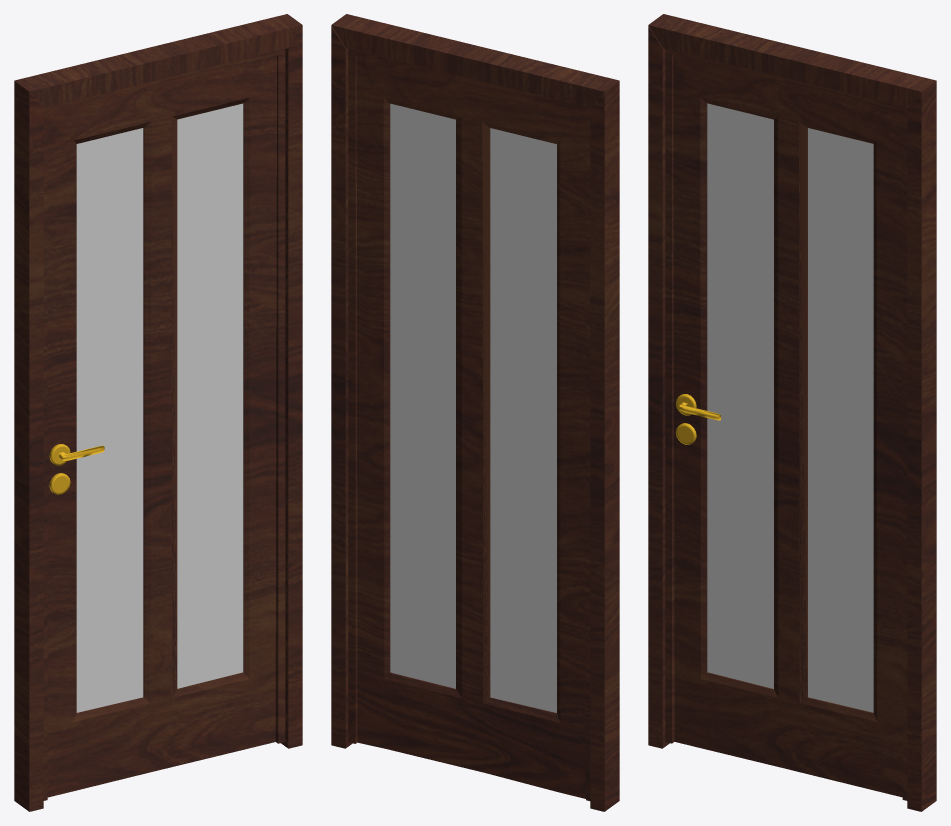
The model's file is PUERTA41_SICILIA.glb.
3 renders of one model, left to right at view 1: azimuth 30°, elevation 25°; view 2: azimuth 150°, elevation 25°; view 3: azimuth 330°, elevation 25°, orthographic.
Parts seen in each view (by area): view 1: Puerta41_SICILIA, PUERTA41_CRISTALES, Puerta41_Marco, Puerta41_Cerradura; view 2: Puerta41_SICILIA, PUERTA41_CRISTALES, Puerta41_Marco; view 3: Puerta41_SICILIA, PUERTA41_CRISTALES, Puerta41_Marco, Puerta41_Cerradura.
Part boxes in pixels (x1=…): Puerta41_SICILIA: x1=43, y1=49, x2=285, y2=800; PUERTA41_CRISTALES: x1=76, y1=103, x2=243, y2=712; Puerta41_Marco: x1=14, y1=14, x2=302, y2=811; Puerta41_Cerradura: x1=49, y1=444, x2=104, y2=494; Puerta41_SICILIA: x1=348, y1=49, x2=590, y2=800; PUERTA41_CRISTALES: x1=390, y1=103, x2=556, y2=712; Puerta41_Marco: x1=331, y1=14, x2=619, y2=811; Puerta41_SICILIA: x1=665, y1=49, x2=907, y2=800; PUERTA41_CRISTALES: x1=707, y1=103, x2=873, y2=712; Puerta41_Marco: x1=648, y1=14, x2=936, y2=811; Puerta41_Cerradura: x1=675, y1=394, x2=721, y2=444.
Size of the model in its own units: 769 by 1936 by 85.
3 materials, 2 textured.
